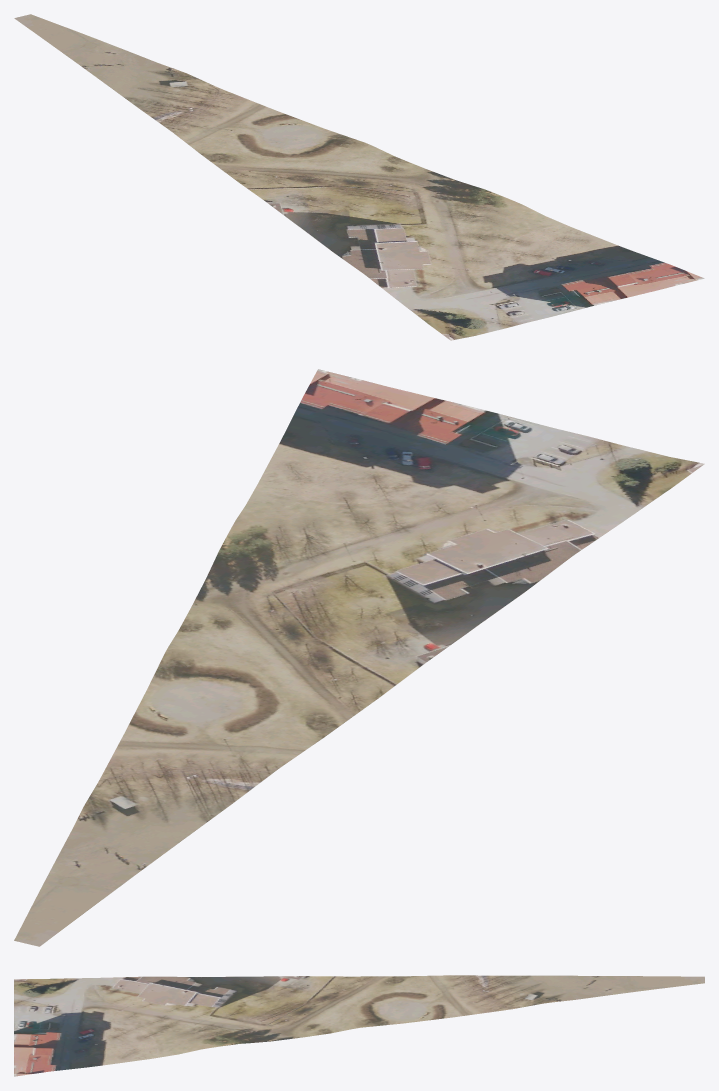
The model's file is CM_Terrain_24491892_6819999.fbx.
3 renders of one model, top to bottom at view 1: azimuth 30°, elevation 25°; view 2: azimuth 150°, elevation 25°; view 3: azimuth 270°, elevation 25°, orthographic. The views are drawn at different scales.
Parts seen in each view (by area): view 1: CM_Terrain_24491892_6819999_LOD0; view 2: CM_Terrain_24491892_6819999_LOD0; view 3: CM_Terrain_24491892_6819999_LOD0.
Part boxes in pixels (x1,y1,x2,y2): CM_Terrain_24491892_6819999_LOD0: (14, 14, 704, 340); CM_Terrain_24491892_6819999_LOD0: (14, 369, 704, 946); CM_Terrain_24491892_6819999_LOD0: (14, 975, 704, 1076).
Size of what is drawn, in the model's own units: 68.76 by 1.49 by 205.
